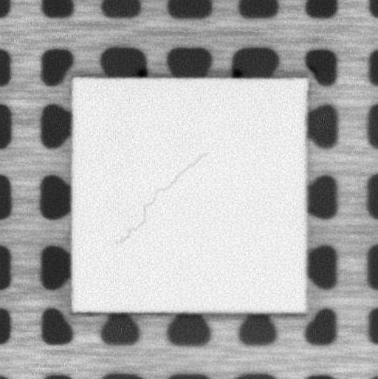DIE_CRACK: (120, 151, 208, 244)
